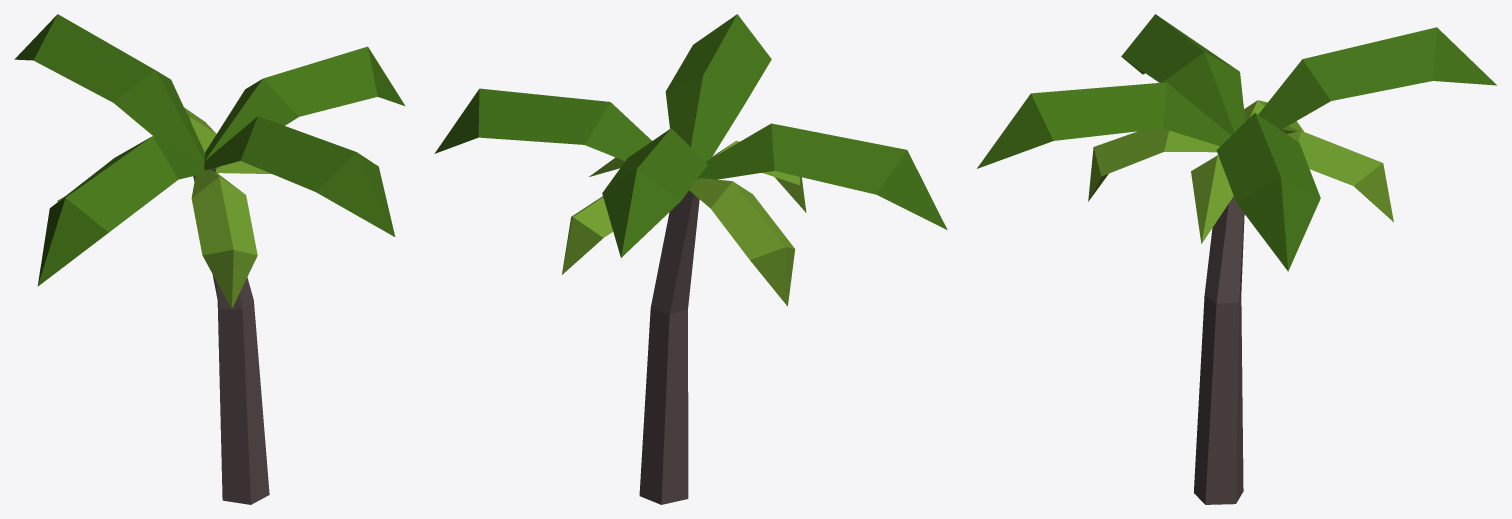
Rendered from TB_D_Env_Tree_PalmA_C.FBX.
3 views of the same model, side by side, from view 1: azimuth 30°, elevation 25°; view 2: azimuth 150°, elevation 25°; view 3: azimuth 270°, elevation 25° (orthographic).
Parts seen in each view (by area): view 1: TB_D_Env_Tree_PalmA_C; view 2: TB_D_Env_Tree_PalmA_C; view 3: TB_D_Env_Tree_PalmA_C.
Part boxes in pixels (x1,y1,x2,y2): TB_D_Env_Tree_PalmA_C: (14,14,405,504); TB_D_Env_Tree_PalmA_C: (434,14,947,504); TB_D_Env_Tree_PalmA_C: (977,14,1496,504).
Size of the model in its own units: 5.89 by 5.4 by 5.94.
